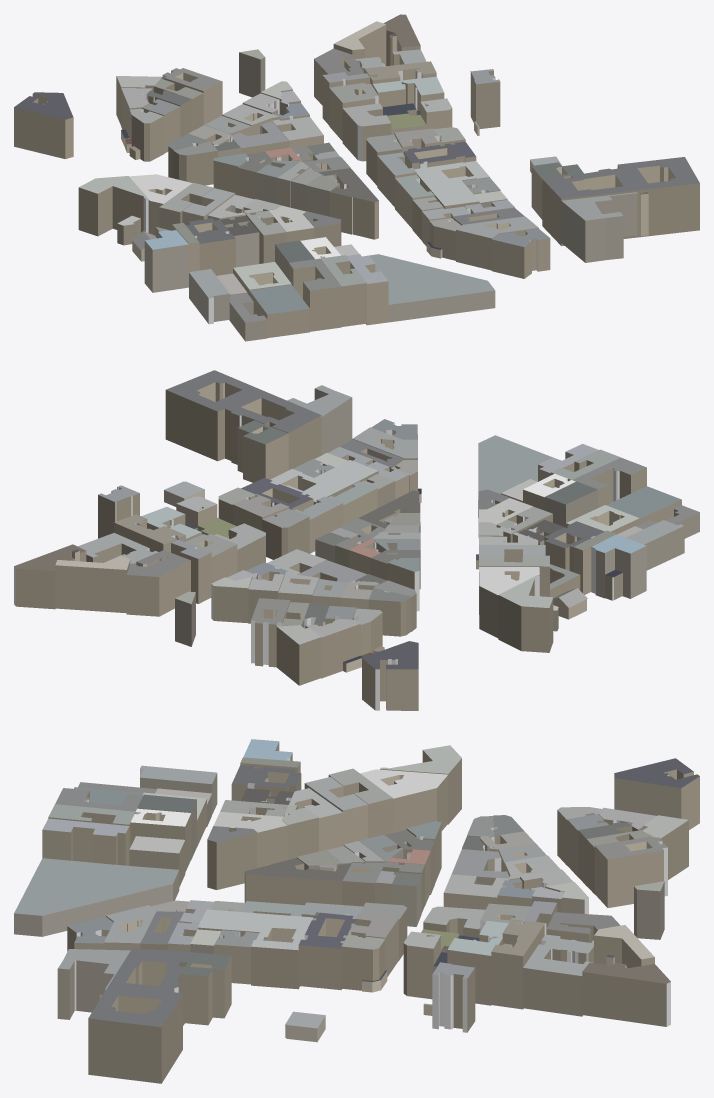
The picture shows the model from 3 angles, top to bottom: view 1: azimuth 30°, elevation 25°; view 2: azimuth 150°, elevation 25°; view 3: azimuth 270°, elevation 25°; orthographic projection. The views are drawn at different scales.
Parts seen in each view (by area): view 1: tuile; view 2: tuile; view 3: tuile.
Part boxes in pixels (x1,y1,x2,y2): tuile: (14, 14, 699, 341); tuile: (14, 370, 699, 710); tuile: (14, 739, 699, 1083).
Bounding box in the file's own units: 295 × 32.38 × 296.
